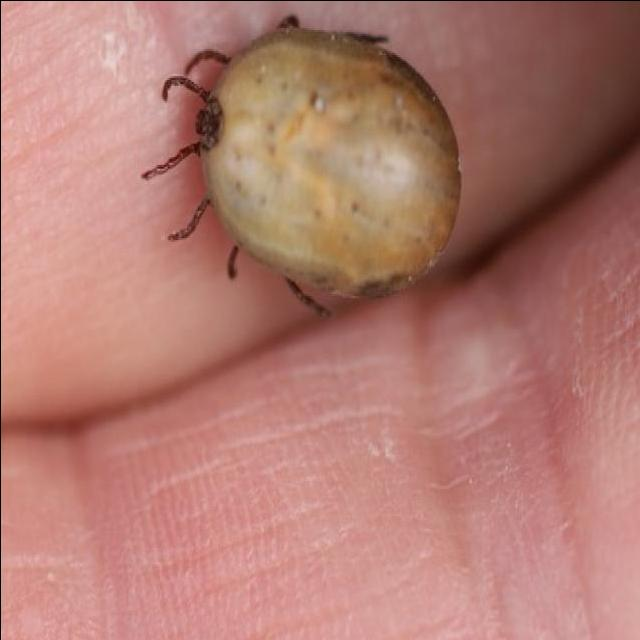Dermacentor Reticulatus-F-Fed: (141, 13, 462, 318)
